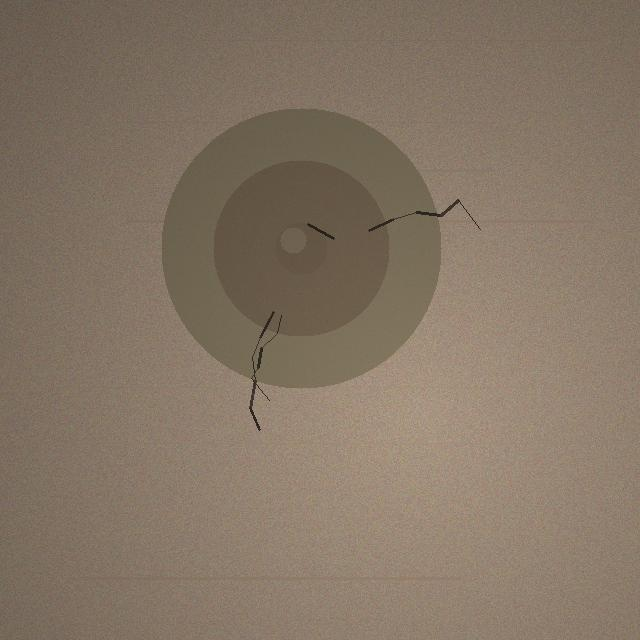crack: (161, 108, 441, 388)
